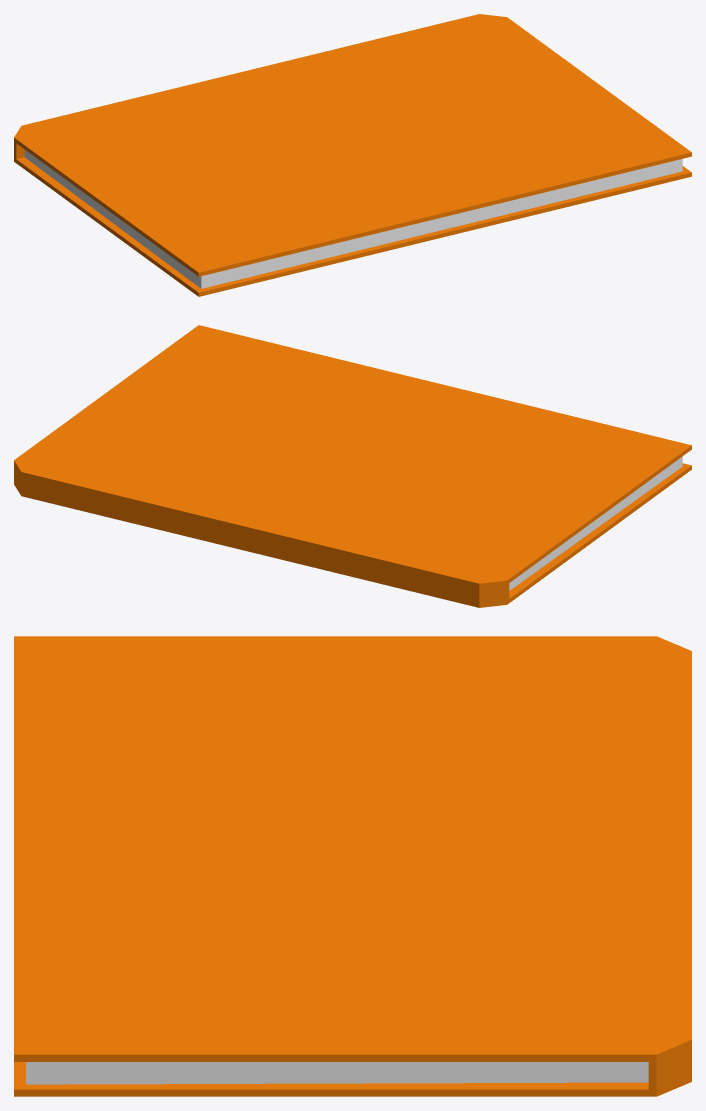
File: Note Book_6.fbx
The picture shows the model from 3 angles, top to bottom: view 1: azimuth 30°, elevation 25°; view 2: azimuth 150°, elevation 25°; view 3: azimuth 270°, elevation 25°; orthographic projection. The views are drawn at different scales.
Parts seen in each view (by area): view 1: Note Book_6; view 2: Note Book_6; view 3: Note Book_6.
Boxes of the visible parts, bbox=[...] form: Note Book_6: bbox=[14, 14, 691, 296]; Note Book_6: bbox=[14, 325, 691, 607]; Note Book_6: bbox=[14, 636, 691, 1096].
Bounding box in the file's own units: 0.2067 × 0.0097 × 0.1415.
